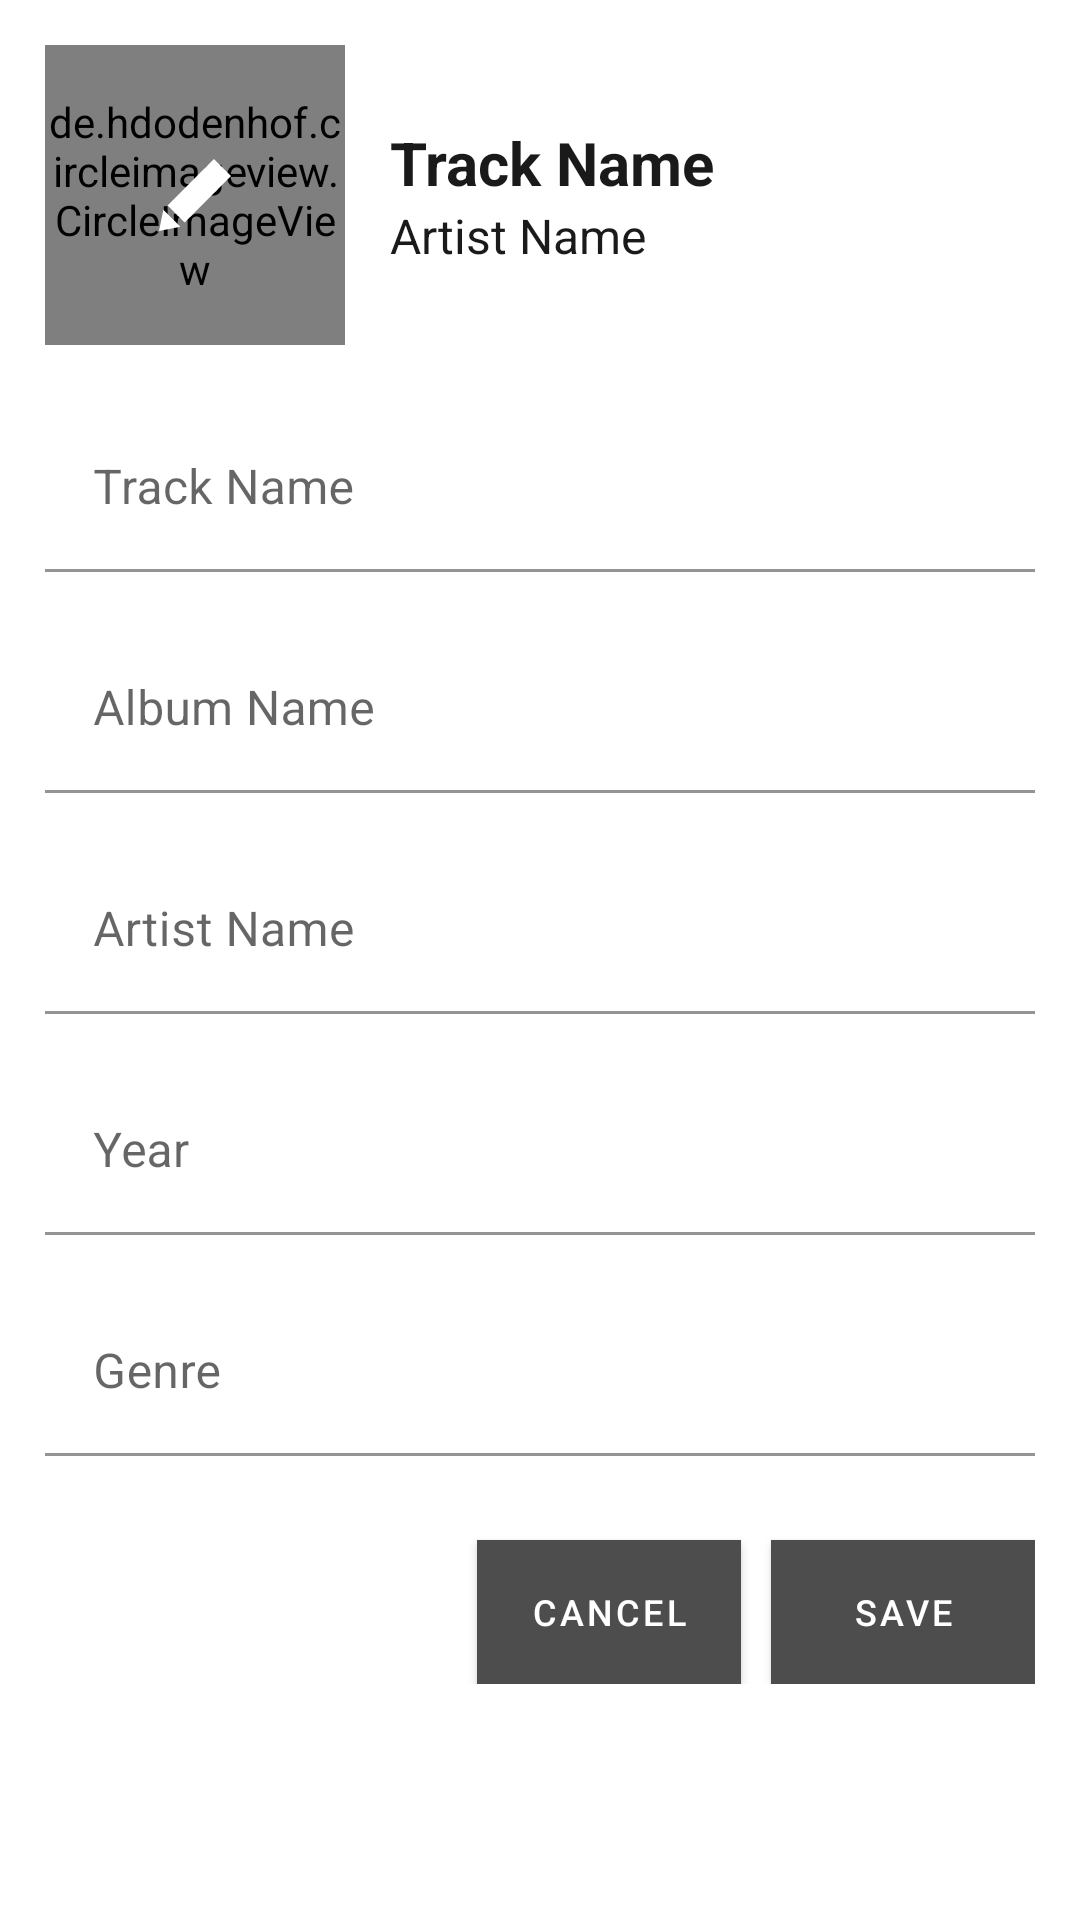

Where icons sit on this 1080 x 1920 app screen, as (x1, y1, x2, y2):
edit: (159, 159, 231, 231)
